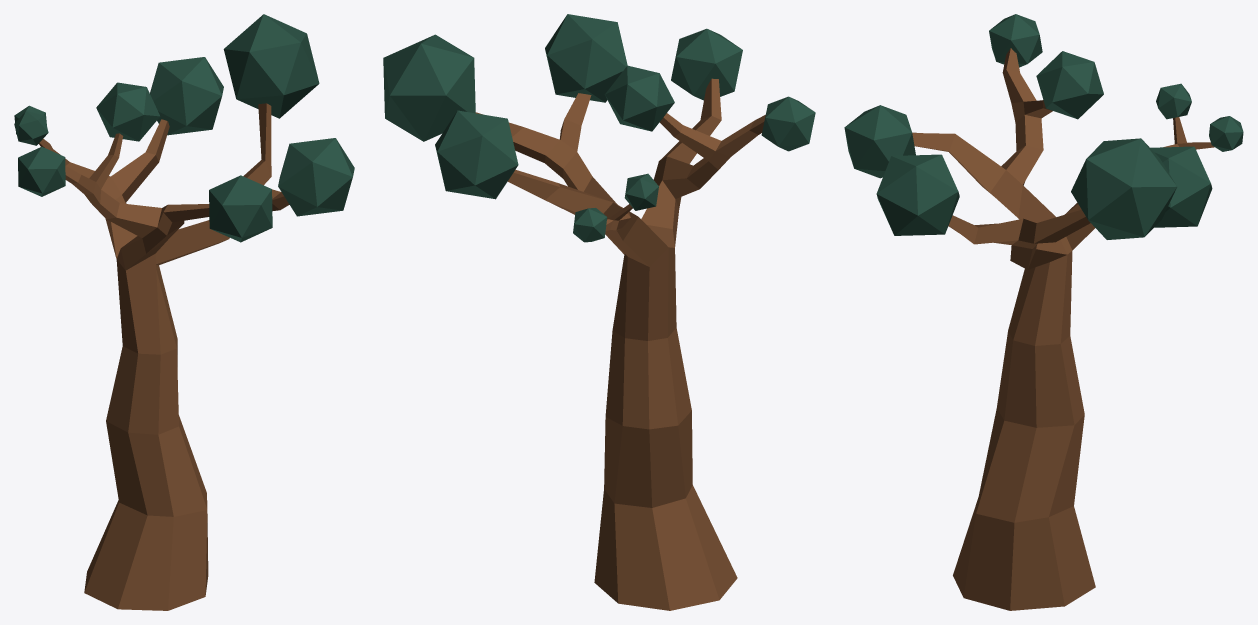
The model's file is tree1.fbx.
3 renders of one model, left to right at view 1: azimuth 30°, elevation 25°; view 2: azimuth 150°, elevation 25°; view 3: azimuth 270°, elevation 25°, orthographic. The views are drawn at different scales.
Visible parts, largest first — view 1: Cylinder; view 2: Cylinder; view 3: Cylinder.
Boxes of the visible parts, x1,y1,x2,y2 form: Cylinder: [14, 14, 354, 610]; Cylinder: [383, 14, 815, 610]; Cylinder: [844, 14, 1243, 610].
Size of the model in its own units: 846 by 1165 by 789.
